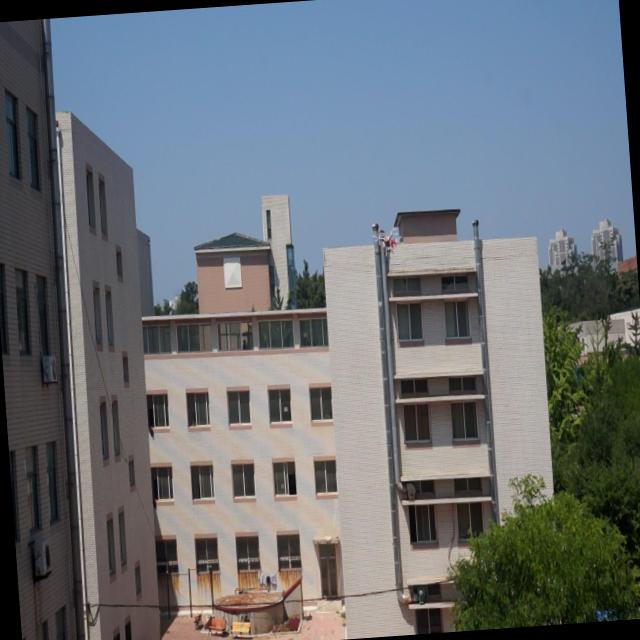drone: (376, 227, 402, 258)
